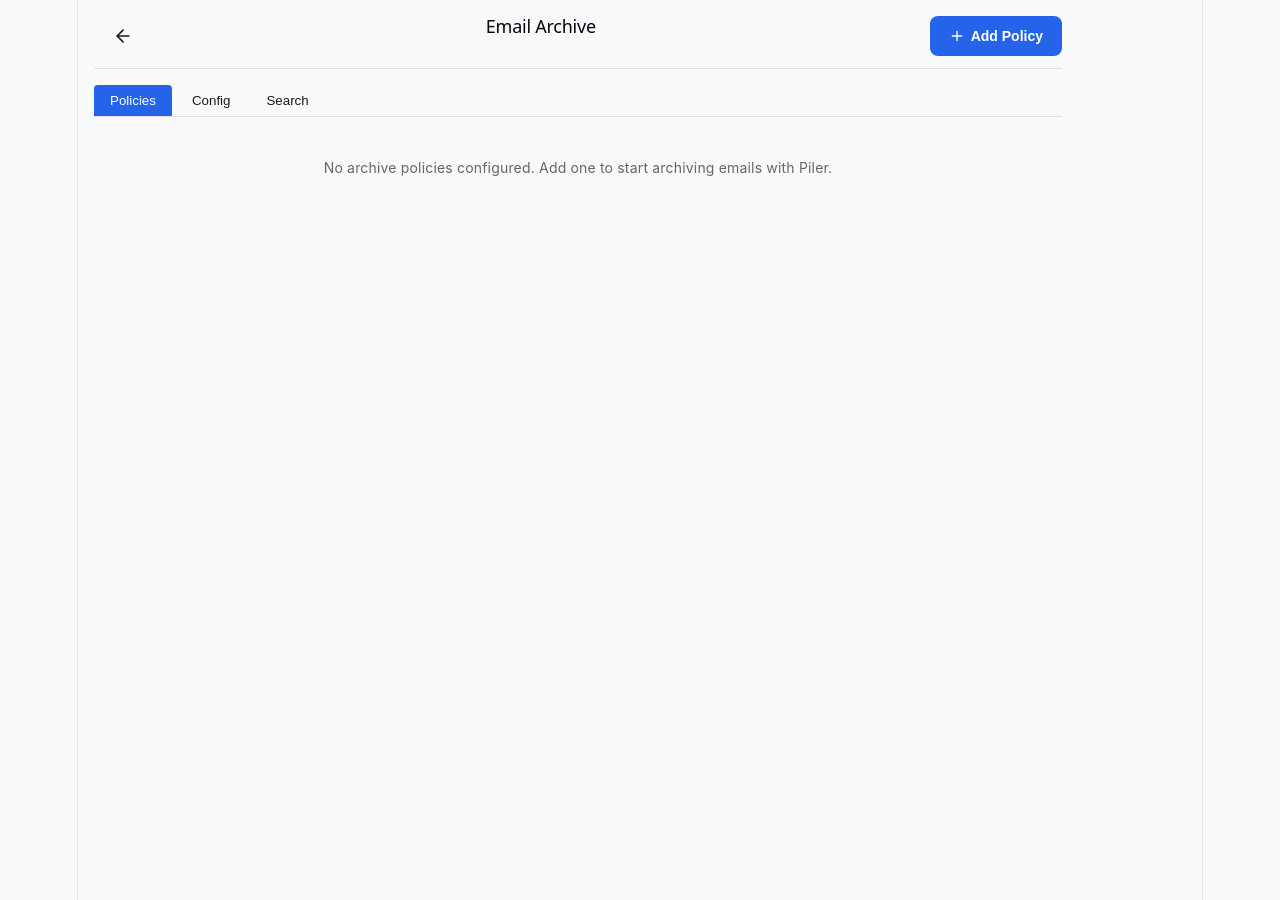
Scenario: ArchiveManager › shows add policy form when Add Policy is clicked
The image size is (1280, 900).
Click the button "Add Policy".
click(996, 36)  # box [930,16,1062,56]
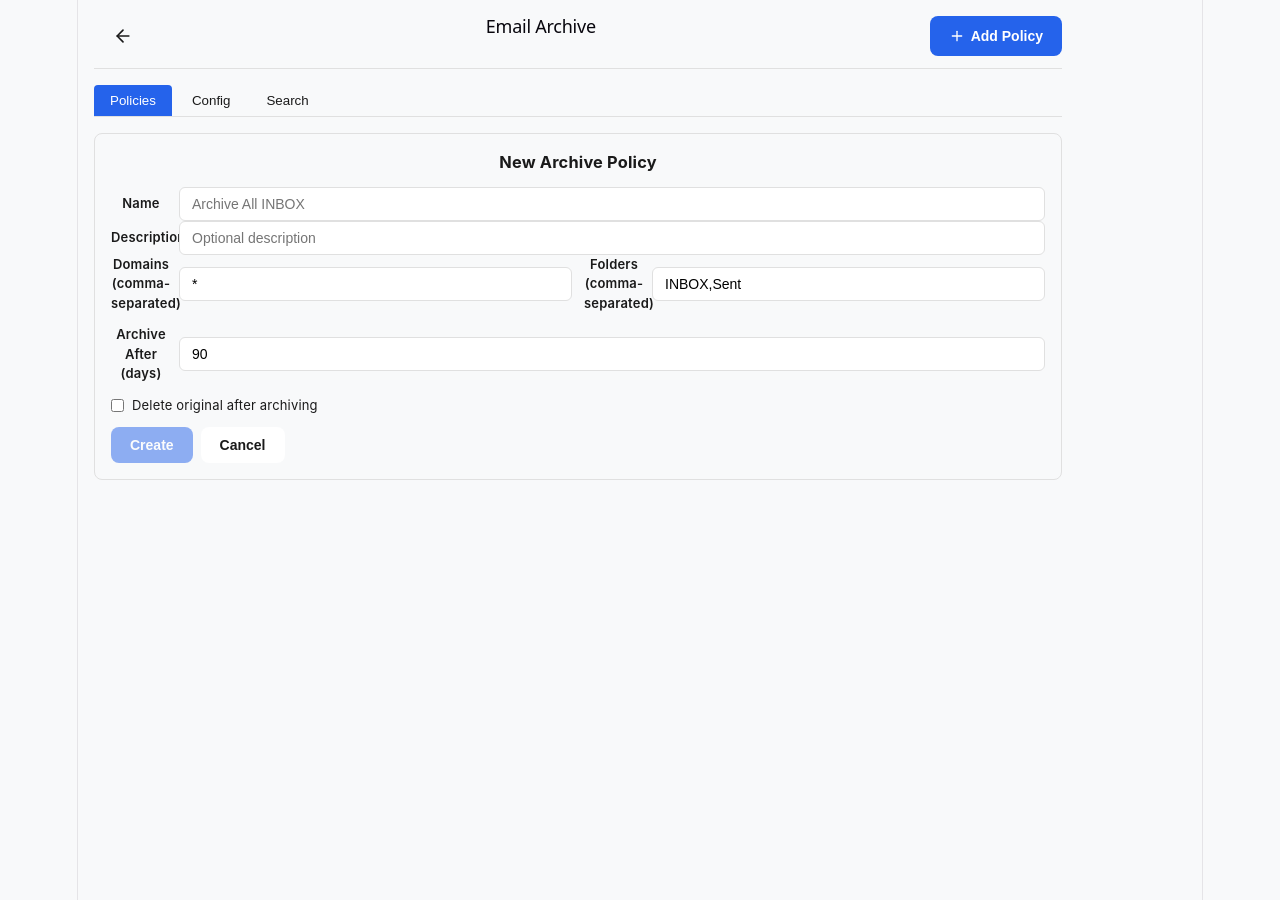
Expected: the heading "New Archive Policy" is shown, [499,152,657,172]
Expected: the field with placeholder "Archive All INBOX" is shown, [179,187,1045,221]
